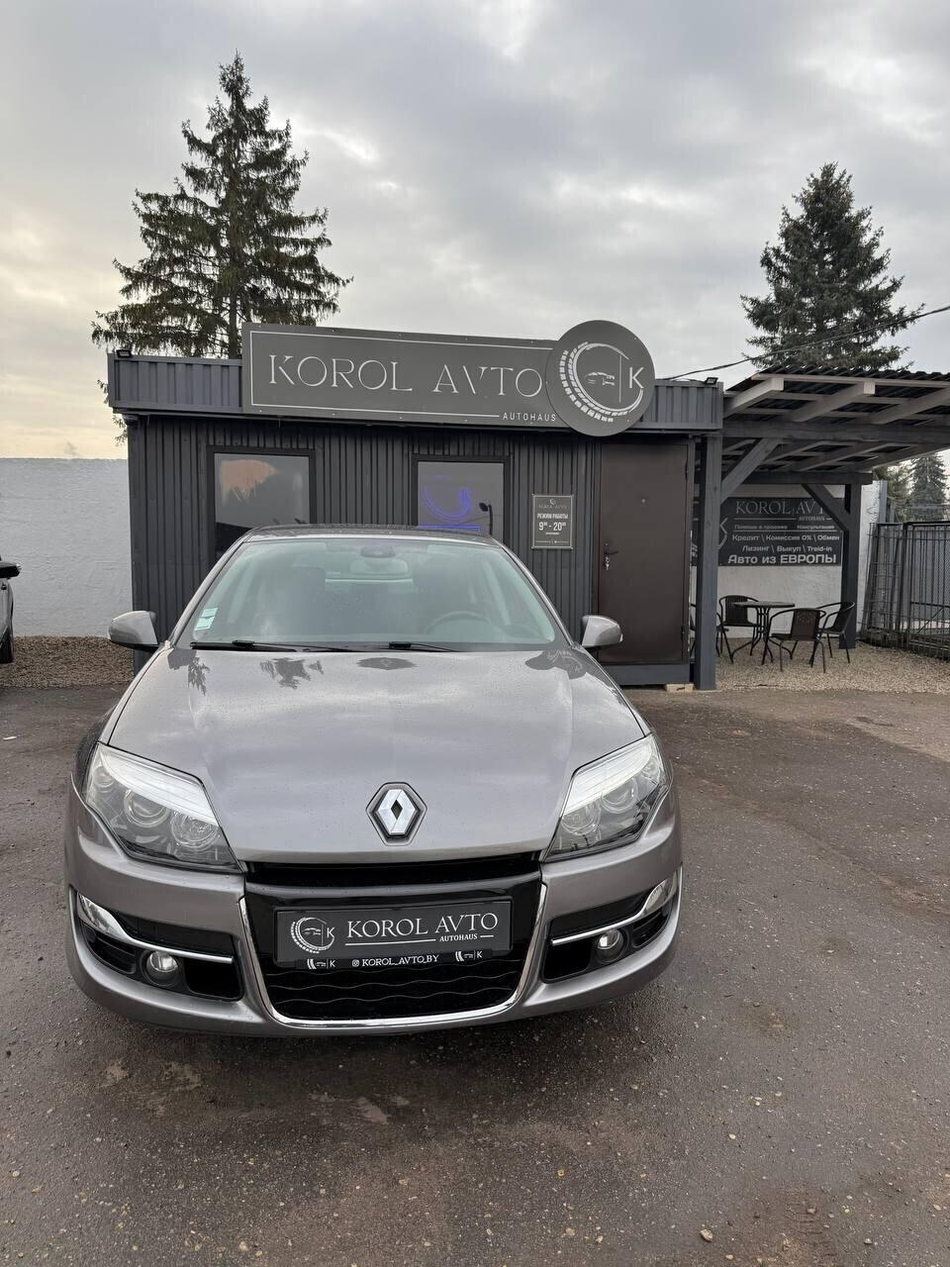Laguna_2010-2015: (68, 518, 686, 1036)
